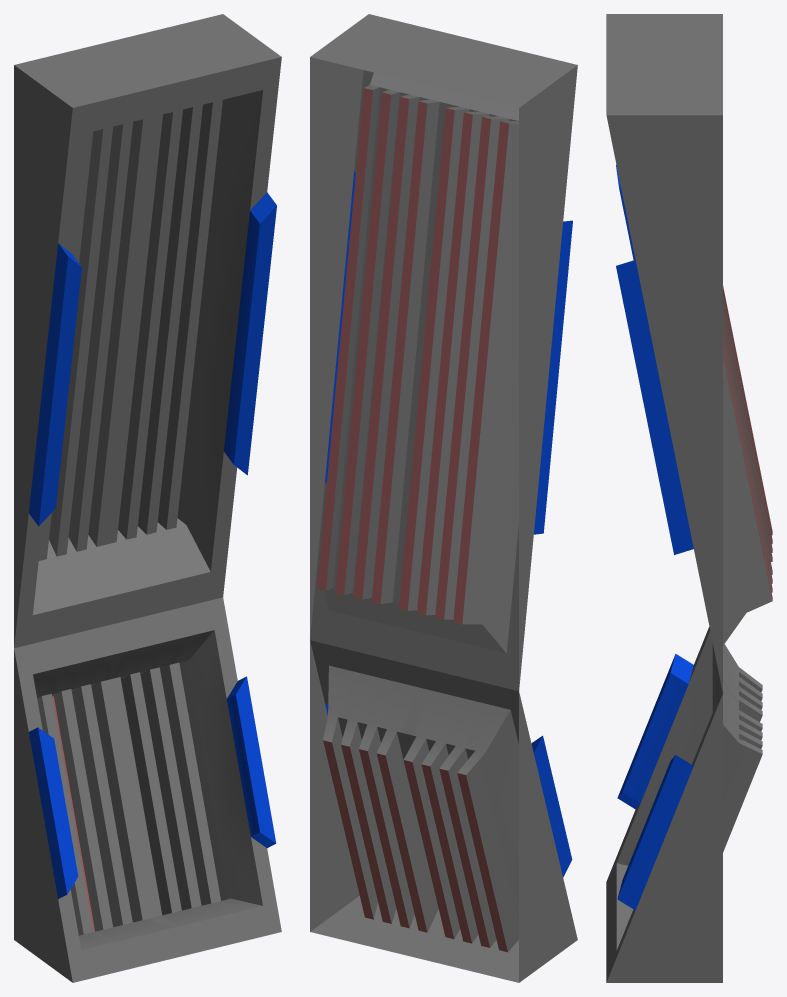
The model's file is Demi_Module_High.fbx.
3 renders of one model, left to right at view 1: azimuth 30°, elevation 25°; view 2: azimuth 150°, elevation 25°; view 3: azimuth 270°, elevation 25°, orthographic.
Parts seen in each view (by area): view 1: pCube3; view 2: pCube3; view 3: pCube3.
Boxes of the visible parts, x1,y1,x2,y2 form: pCube3: (14,14,281,982); pCube3: (310,14,577,982); pCube3: (606,14,772,982).
Size of the model in its own units: 150 by 600 by 104.
